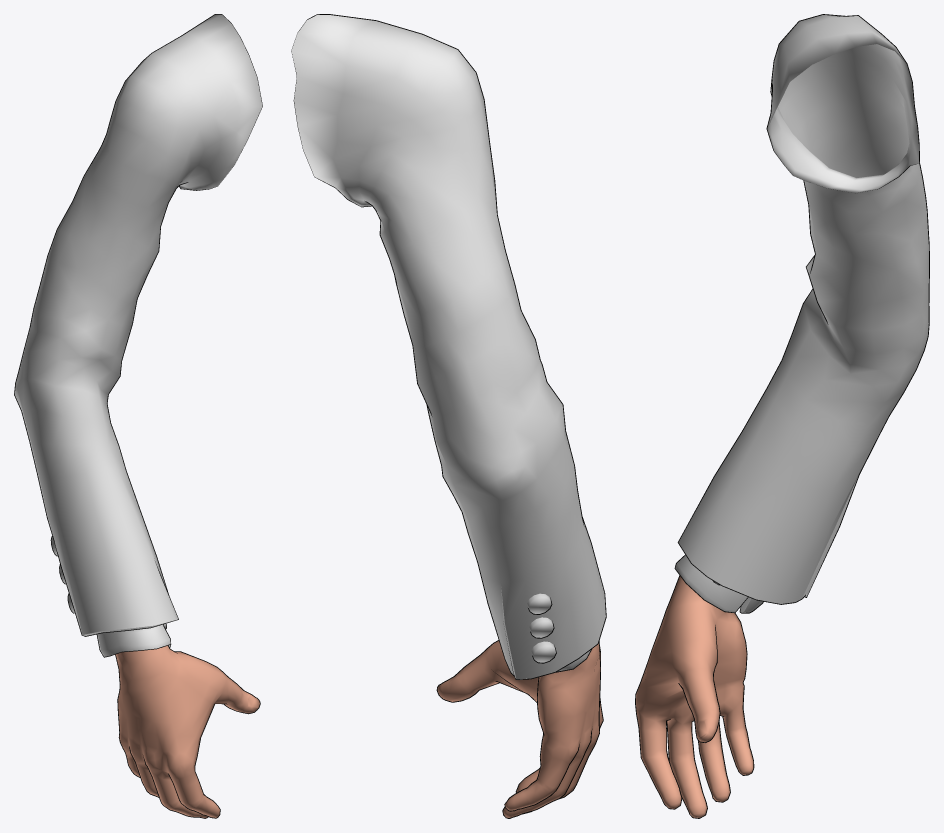
Rendered from ArmCup.fbx.
3 renders of one model, left to right at view 1: azimuth 30°, elevation 25°; view 2: azimuth 150°, elevation 25°; view 3: azimuth 270°, elevation 25°, orthographic. The views are drawn at different scales.
Parts seen in each view (by area): view 1: DrawCall_0121.000; view 2: DrawCall_0121.000; view 3: DrawCall_0121.000.
Boxes of the visible parts, x1,y1,x2,y2 form: DrawCall_0121.000: [14, 14, 262, 818]; DrawCall_0121.000: [291, 14, 606, 818]; DrawCall_0121.000: [635, 14, 929, 818].
Bounding box in the file's own units: 371 × 1252 × 404.
